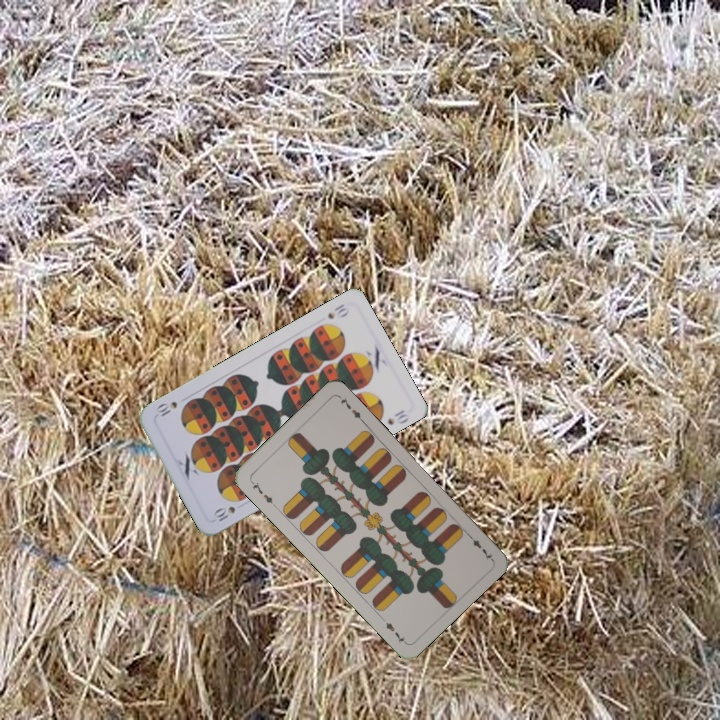E7: (463, 530, 495, 562), (247, 476, 278, 509)
S10: (209, 502, 238, 524), (323, 300, 352, 322)
